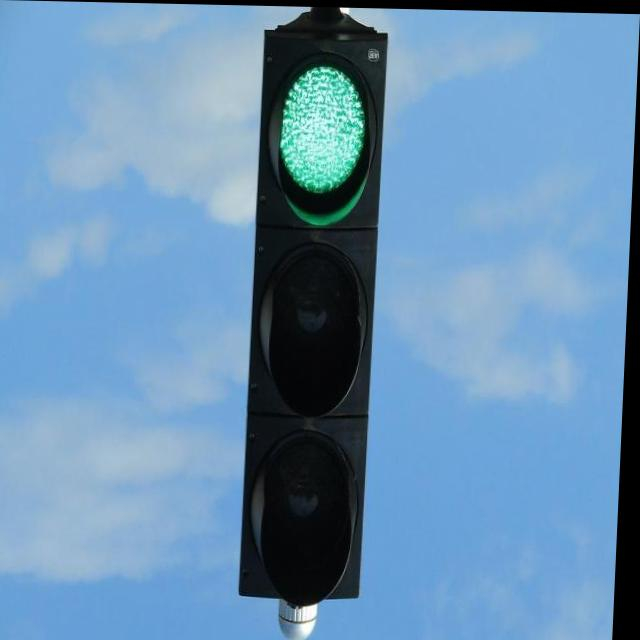green light: (247, 38, 388, 592)
